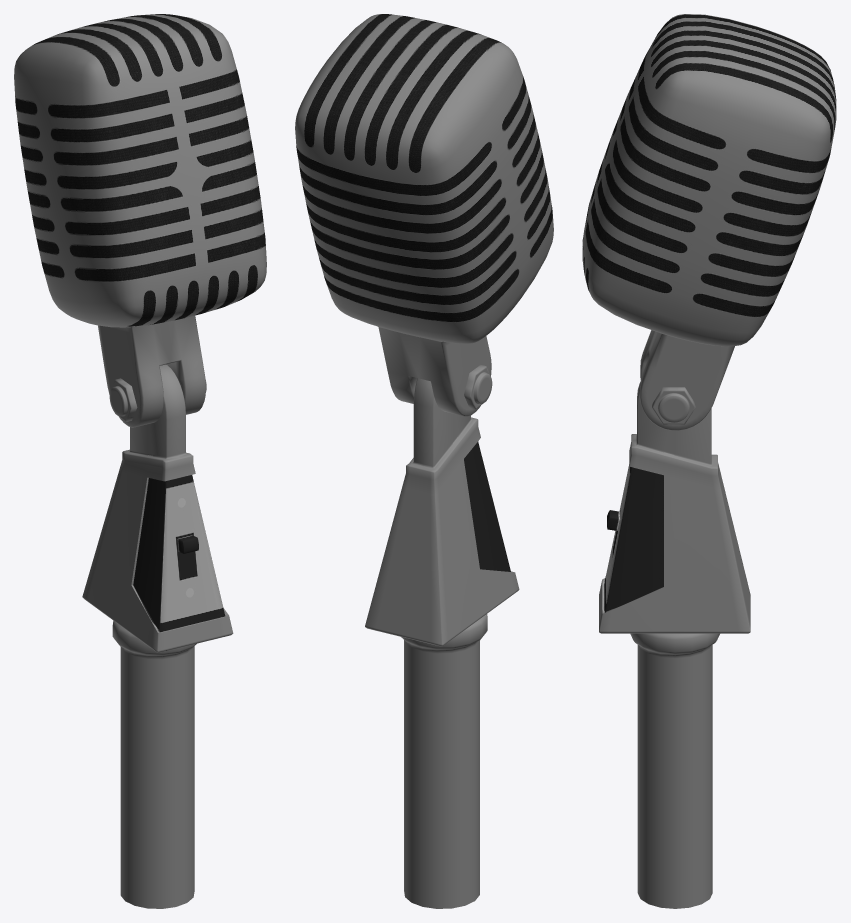
File: retro_microphone.glb
3 renders of one model, left to right at view 1: azimuth 30°, elevation 25°; view 2: azimuth 150°, elevation 25°; view 3: azimuth 270°, elevation 25°, orthographic. The views are drawn at different scales.
Visible parts, largest first — view 1: mic_low_poly.001; view 2: mic_low_poly.001; view 3: mic_low_poly.001.
Boxes of the visible parts, x1,y1,x2,y2 form: mic_low_poly.001: (14, 14, 266, 908); mic_low_poly.001: (295, 14, 553, 908); mic_low_poly.001: (582, 14, 836, 908).
Bounding box in the file's own units: 274 × 1279 × 344.
Materials: 1 (1 with a texture image).
